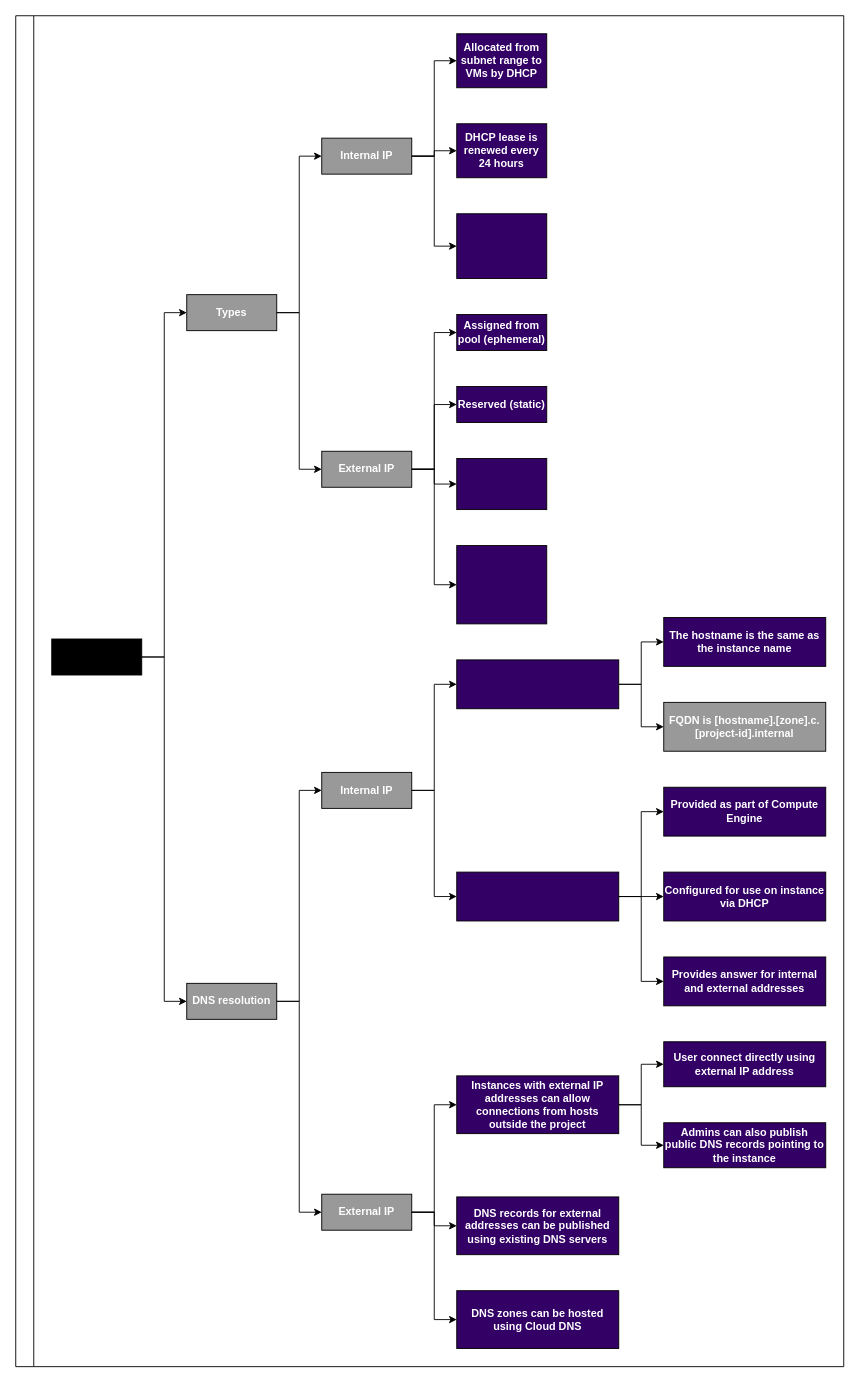
Some shapes in this 860 by 1382 pixel diagram are drawn without their labels. The centre of each missing label's shape, as x and y in pixels:
Bring Your Own IP address (BYOIP): (x=501, y=484)
Each instance has a hostname that can be resolved to an internal IP address: (x=537, y=684)
IP Addresses: (x=96, y=656)
Name resolution is handled by internal DNS resolver: (x=537, y=896)
VM doesn't know external IP; it is mapped to the internal IP: (x=501, y=584)
VM name + IP is registered with network-scoped DNS: (x=501, y=246)
